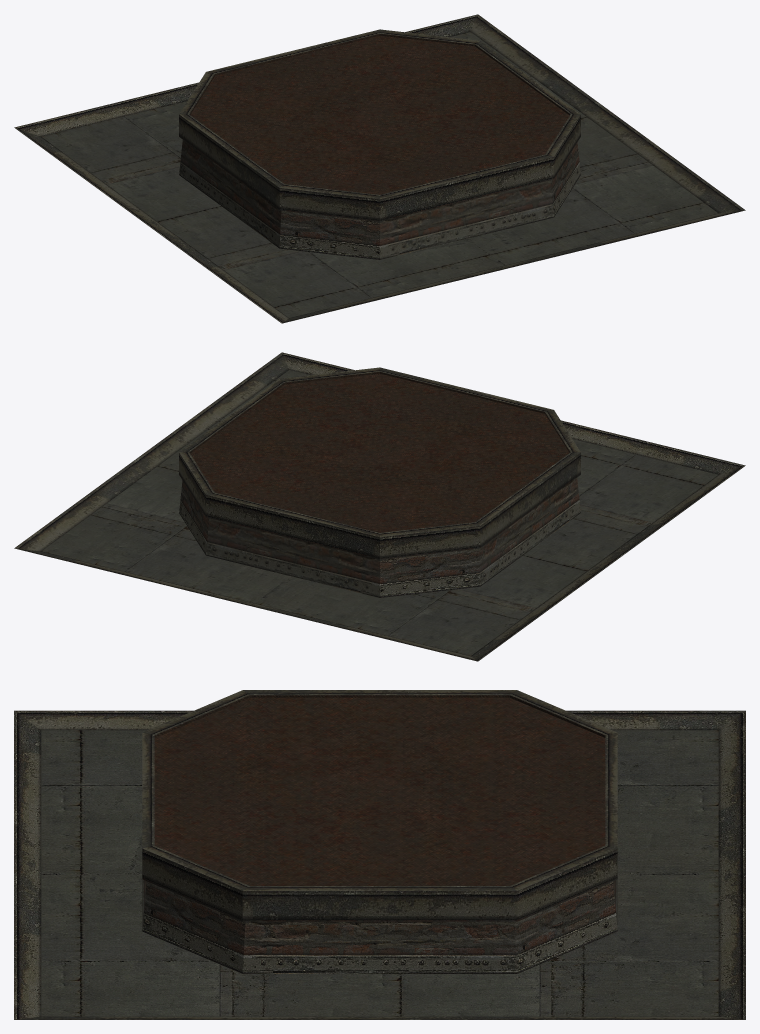
File: structure_piece_rg_2.glb
3 renders of one model, top to bottom at view 1: azimuth 30°, elevation 25°; view 2: azimuth 150°, elevation 25°; view 3: azimuth 270°, elevation 25°, orthographic. The views are drawn at different scales.
Parts seen in each view (by area): view 1: structure_piece_rg_2; view 2: structure_piece_rg_2; view 3: structure_piece_rg_2.
Part boxes in pixels (<box>): structure_piece_rg_2: <box>14,14,745,323</box>; structure_piece_rg_2: <box>14,352,745,661</box>; structure_piece_rg_2: <box>14,690,745,1019</box>.
Bounding box in the file's own units: 8 × 1 × 8.
3 materials, 3 textured.
